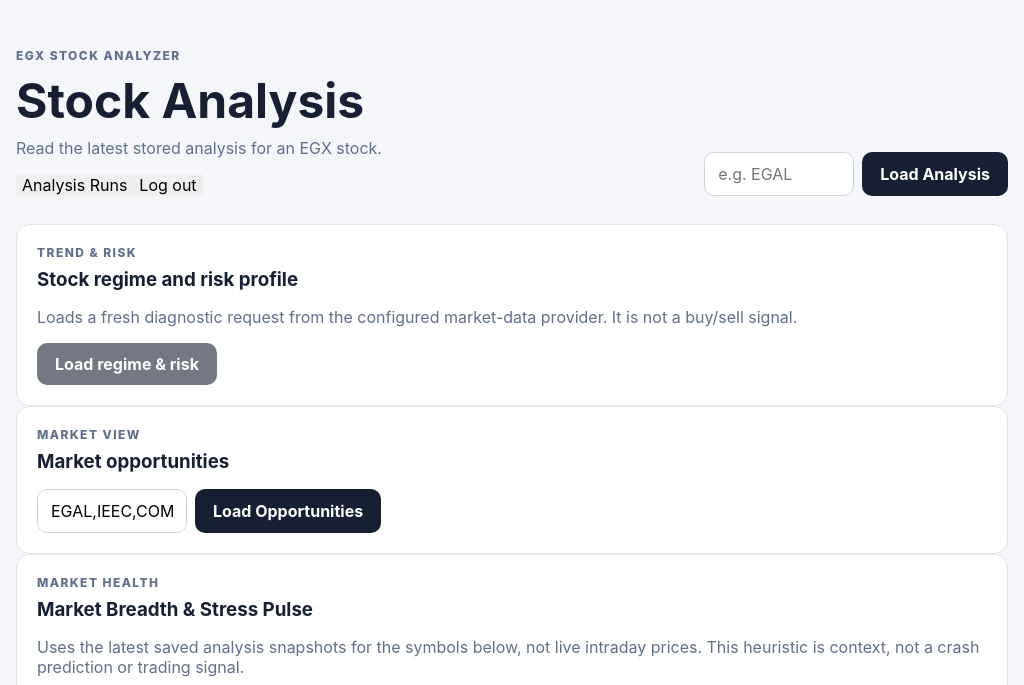
Test: Dashboard › loads trend and risk diagnostics for an opportunity without changing its ranking
Expected: the field named "Stock Symbol" is shown, [704,152,854,196]
Step 1. Click the button "Load Opportunities" → coordinates (288, 511), box [195,489,381,533]
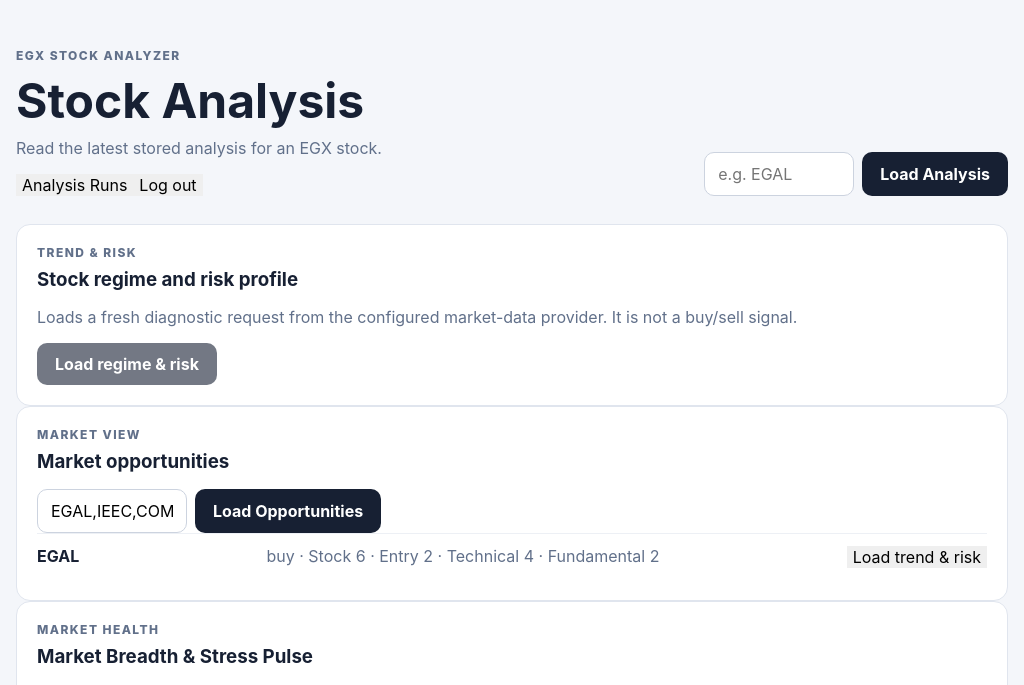
Step 2. Click the button "Load trend & risk" → coordinates (917, 557), box [847,546,987,568]
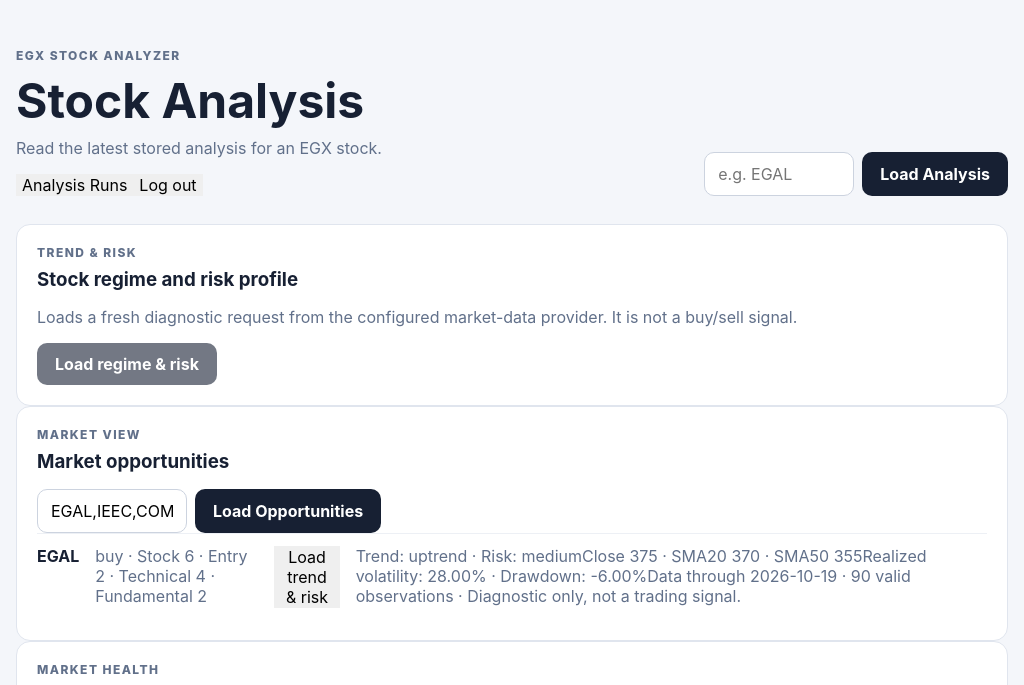
Result: the text "Trend: uptrend · Risk: medium" is shown at [356,546,582,566]
Result: the text "EGAL" shows "Realized volatility: 28.00%" at [37,533,987,620]
Result: the text "EGAL" shows "Data through 2026-10-19" at [37,533,987,620]
